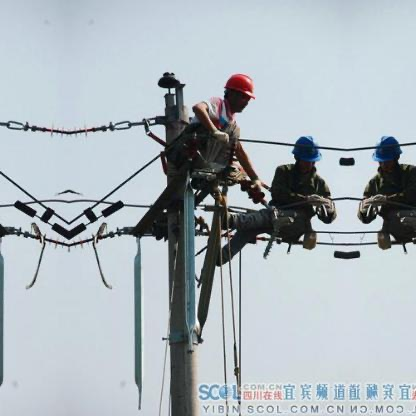Safety Helmet: (219, 68, 263, 127), (283, 128, 328, 178), (368, 130, 408, 179)
